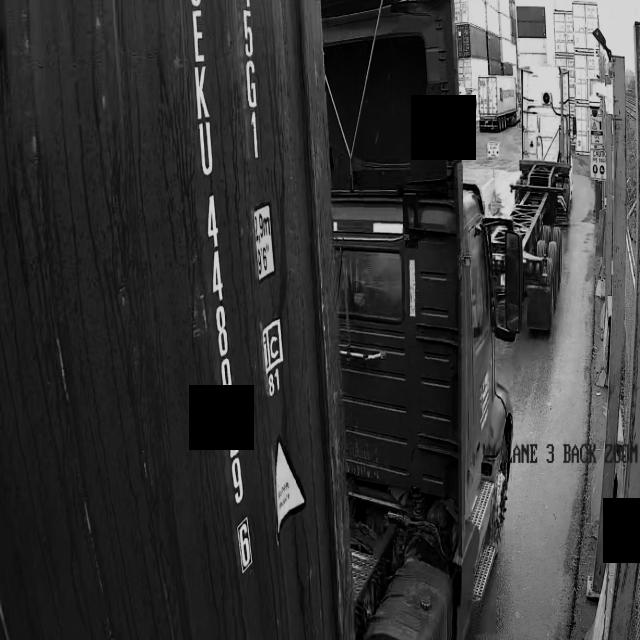container_side_no: (183, 0, 261, 588)
truck_with_container: (0, 0, 523, 640)
truck_without_container: (511, 66, 573, 331)
